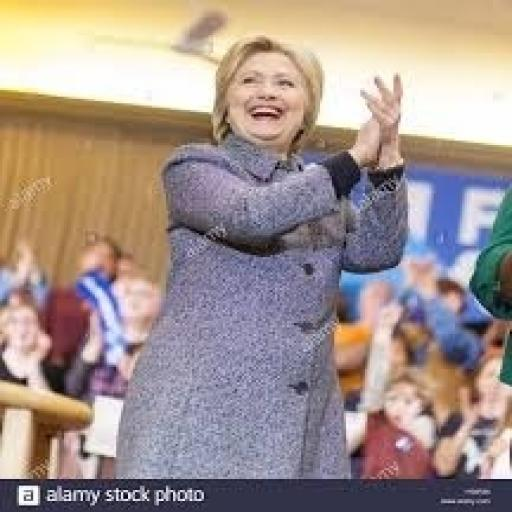clapping: (112, 33, 412, 479)
